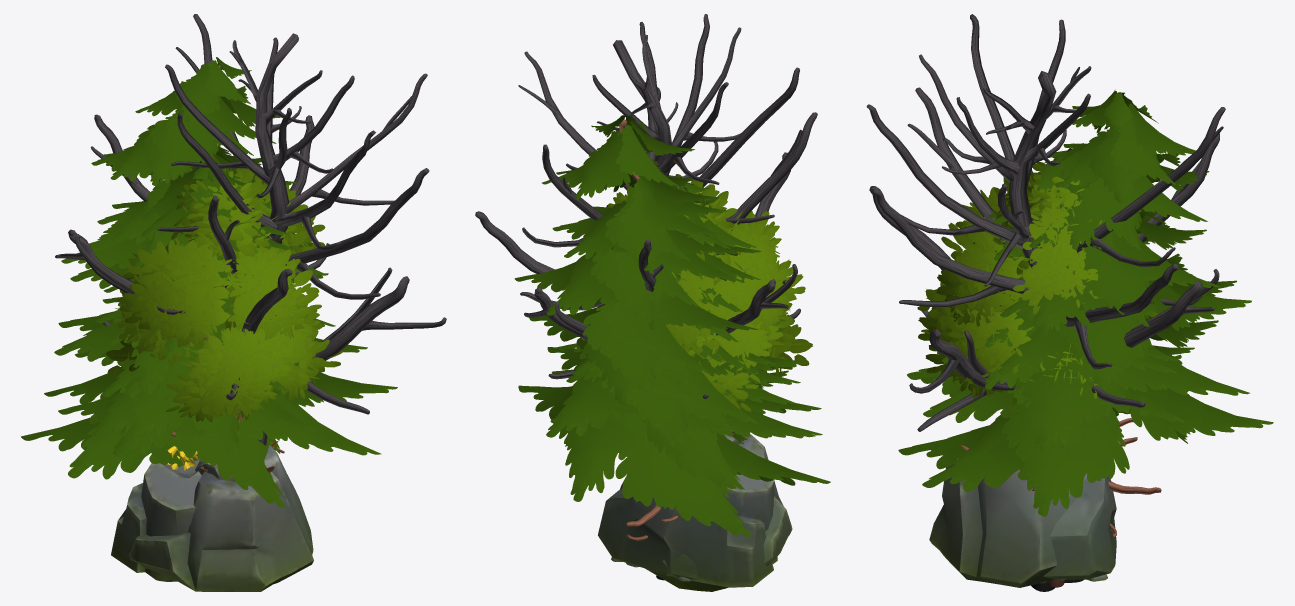
The model's file is nature.glb.
3 views of the same model, side by side, from view 1: azimuth 30°, elevation 25°; view 2: azimuth 150°, elevation 25°; view 3: azimuth 270°, elevation 25° (orthographic). The views are drawn at different scales.
Visible parts, largest first — view 1: Pine_5, CommonTree_1, DeadTree_1, Rock_Medium_1, Pine_1, Rock_Medium_2, Pine_3; view 2: Pine_5, DeadTree_1, CommonTree_1, Rock_Medium_2, Pine_1, Pine_3, Rock_Medium_1; view 3: Pine_5, DeadTree_1, CommonTree_1, Rock_Medium_1, Pine_1, Rock_Medium_2, Pine_3.
Part boxes in pixels (left/top/right/bottom): Pine_5: left=21, top=57, right=397, bottom=508; CommonTree_1: left=106, top=161, right=342, bottom=422; DeadTree_1: left=55, top=14, right=446, bottom=445; Rock_Medium_1: left=128, top=445, right=313, bottom=591; Pine_1: left=58, top=166, right=317, bottom=472; Rock_Medium_2: left=111, top=458, right=201, bottom=581; Pine_3: left=74, top=161, right=313, bottom=453; Pine_5: left=514, top=115, right=830, bottom=536; DeadTree_1: left=475, top=14, right=817, bottom=580; CommonTree_1: left=608, top=174, right=812, bottom=415; Rock_Medium_2: left=598, top=474, right=777, bottom=587; Pine_1: left=550, top=183, right=822, bottom=526; Pine_3: left=566, top=177, right=800, bottom=540; Rock_Medium_1: left=620, top=434, right=792, bottom=591; Pine_5: left=898, top=89, right=1273, bottom=516; DeadTree_1: left=866, top=14, right=1225, bottom=591; CommonTree_1: left=918, top=162, right=1157, bottom=587; Rock_Medium_1: left=929, top=458, right=1076, bottom=587; Pine_1: left=921, top=155, right=1194, bottom=494; Rock_Medium_2: left=1043, top=473, right=1116, bottom=579; Pine_3: left=942, top=148, right=1178, bottom=537.
Bounding box in the file's own units: 6.54 × 9.5 × 6.62.
Materials: 10 (10 with a texture image).
